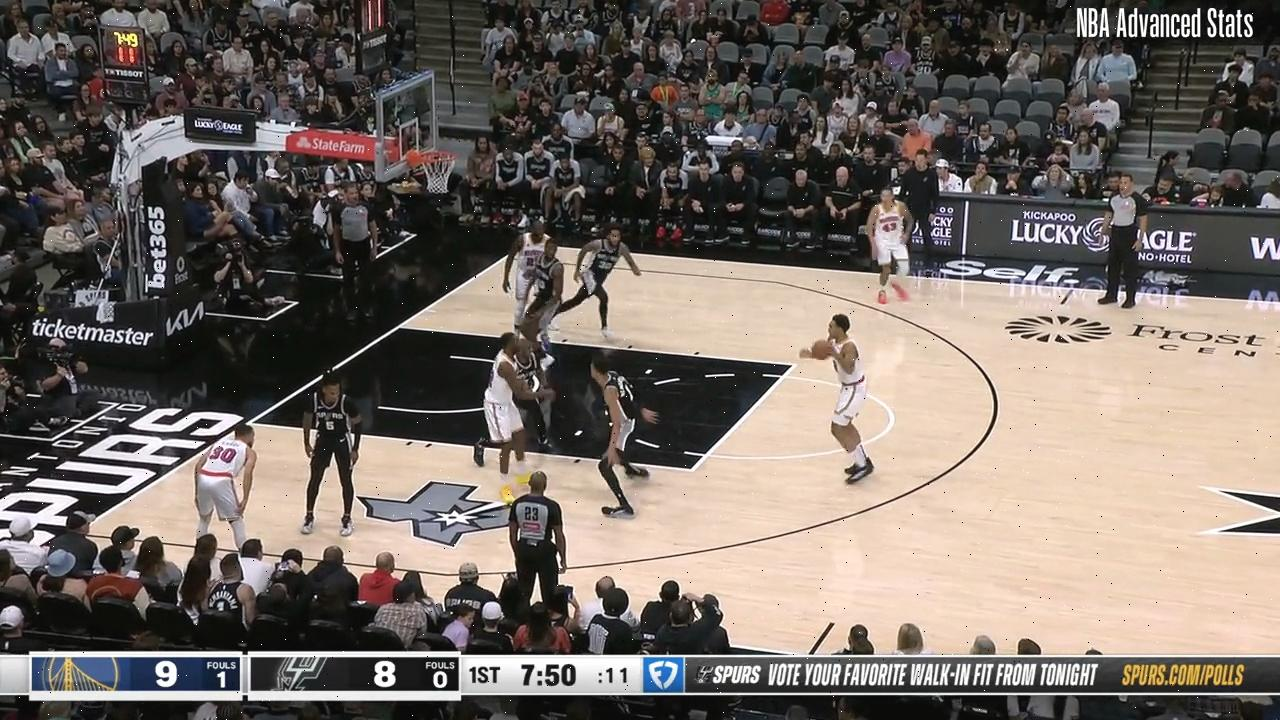basketball: (811, 336, 834, 362)
